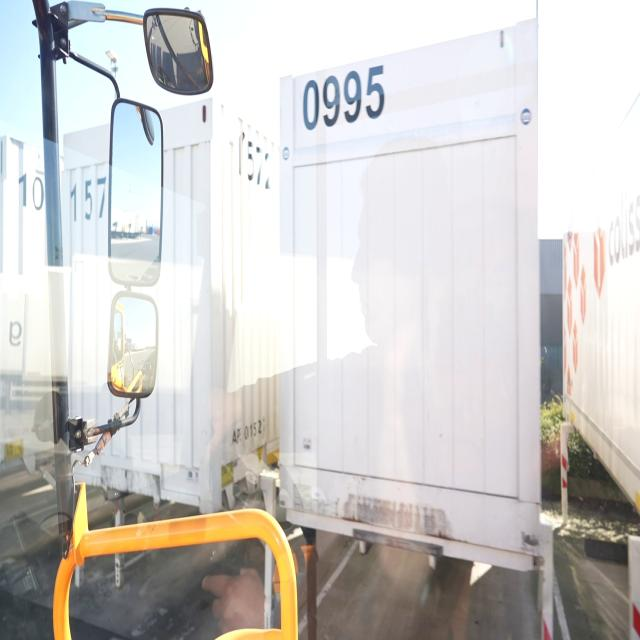Code: (297, 59, 390, 133)
